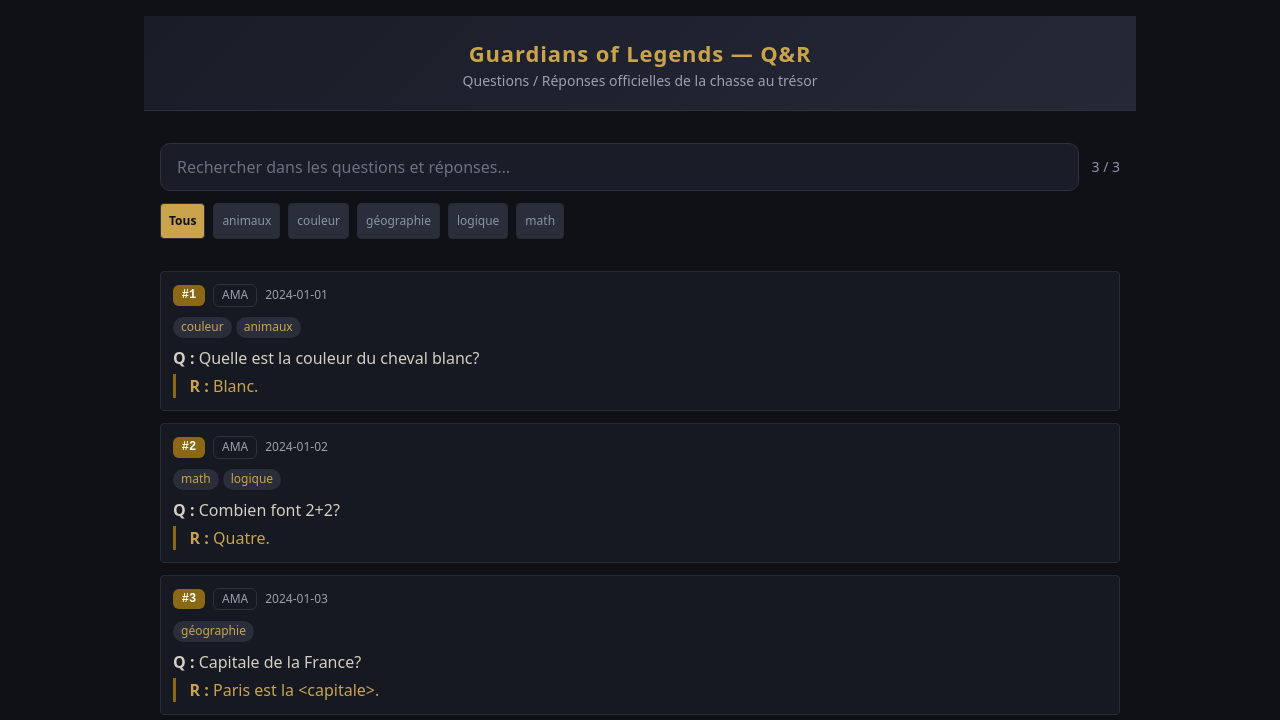
it: QrSection › "Tous" tag clears all active themes
Expected: the text "Q : Capitale de la France?" is shown, [173, 651, 361, 673]
Click the button "math" at (540, 221), box [516, 203, 564, 239]
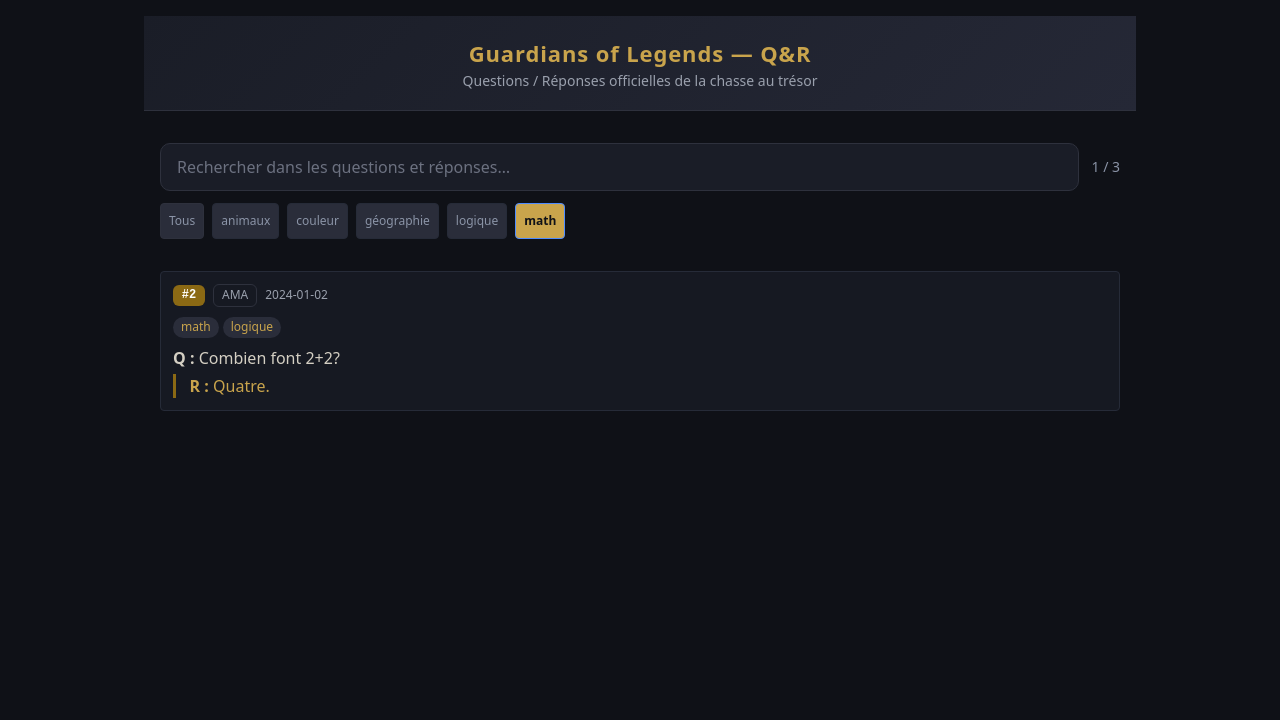
Result: the text "1 / 3" is shown at [1092, 157, 1120, 177]
Click the button "Tous" at (182, 221), box [160, 203, 204, 239]
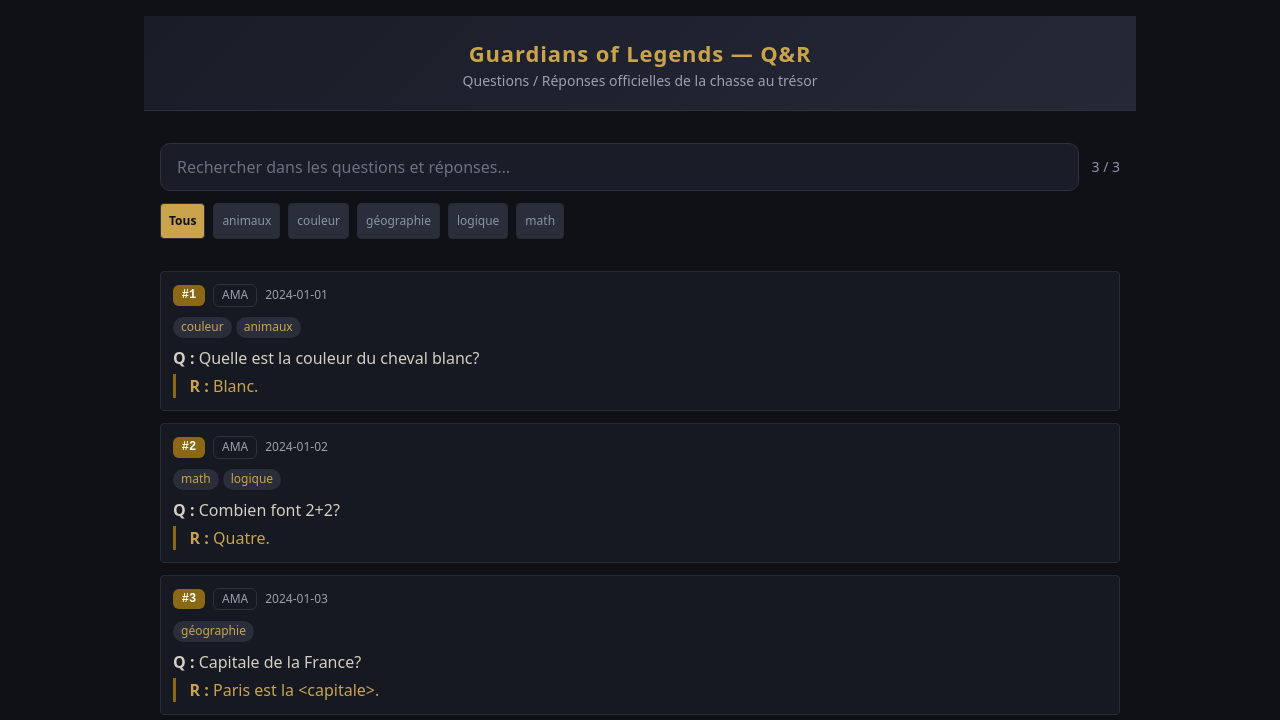
Result: the text "3 / 3" is shown at [1092, 157, 1120, 177]
